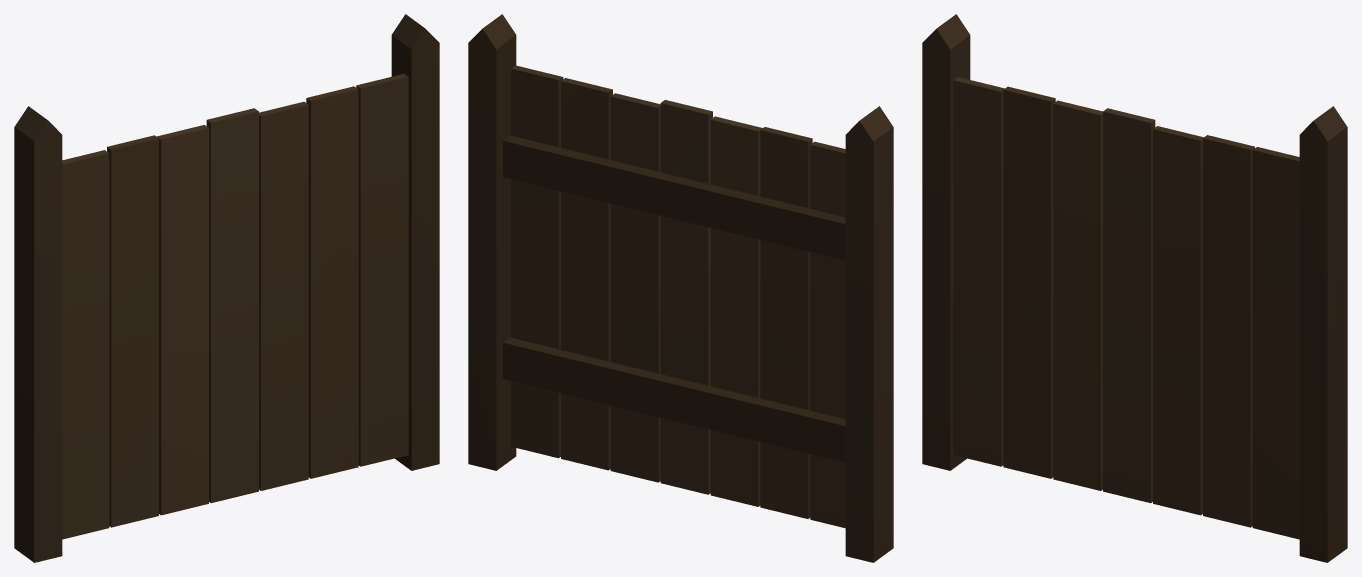
File: fence.board.dark.glb
3 renders of one model, left to right at view 1: azimuth 30°, elevation 25°; view 2: azimuth 150°, elevation 25°; view 3: azimuth 330°, elevation 25°, orthographic.
Parts seen in each view (by area): view 1: fence_board_dark; view 2: fence_board_dark; view 3: fence_board_dark.
Boxes of the visible parts, bbox=[...] form: fence_board_dark: bbox=[14, 14, 439, 562]; fence_board_dark: bbox=[468, 14, 893, 562]; fence_board_dark: bbox=[922, 14, 1347, 562].
Size of what is drawn, in the model's own units: 1.16 by 1.2 by 0.099.
